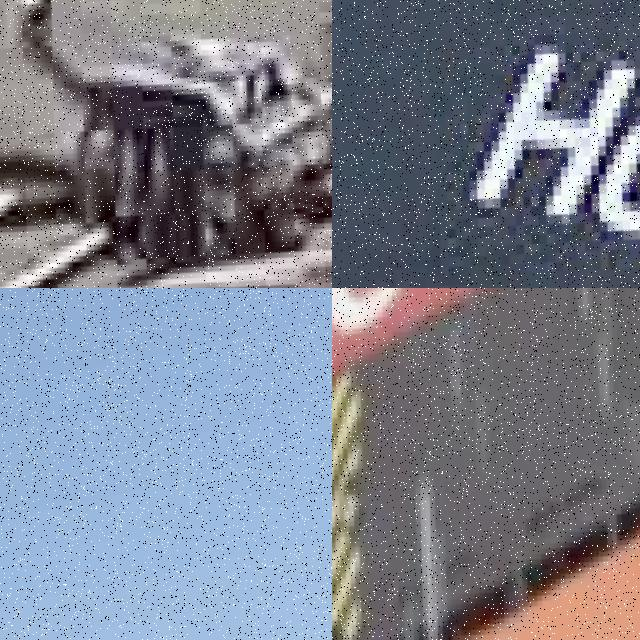drone: (332, 288, 640, 640), (0, 0, 332, 288), (332, 0, 640, 288)
